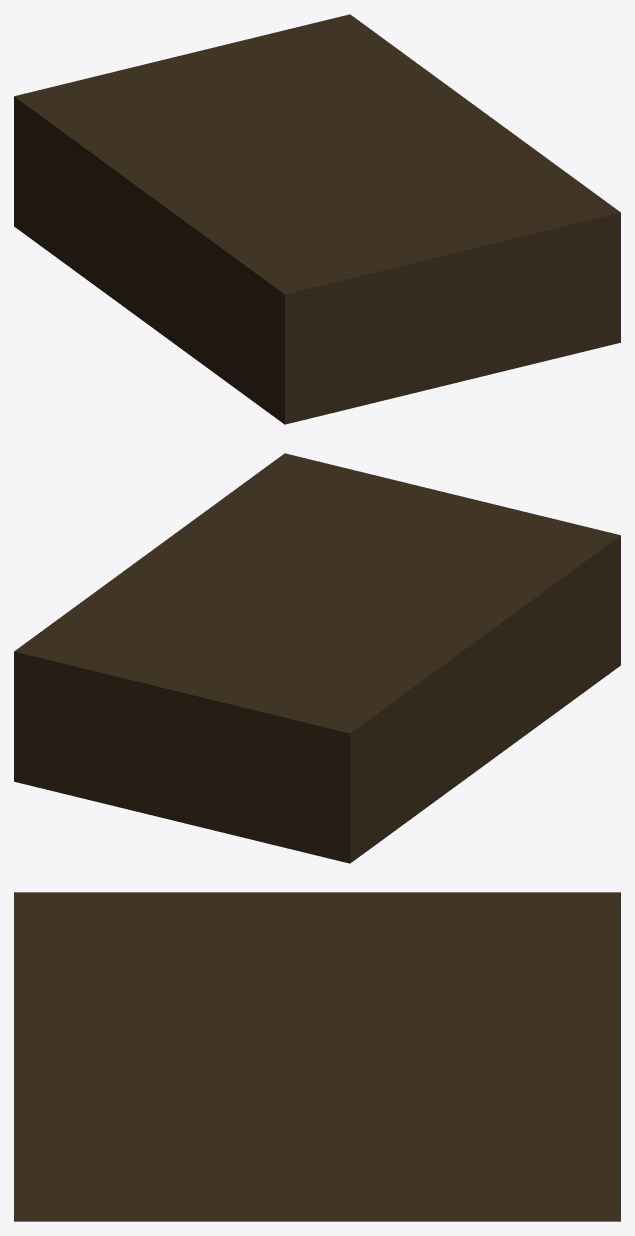
The model's file is Itr_Diningtable_Base_Left_02.FBX.
The picture shows the model from 3 angles, top to bottom: view 1: azimuth 30°, elevation 25°; view 2: azimuth 150°, elevation 25°; view 3: azimuth 270°, elevation 25°; orthographic projection. The views are drawn at different scales.
Visible parts, largest first — view 1: Itr_Diningtable_Base_Left_02; view 2: Itr_Diningtable_Base_Left_02; view 3: Itr_Diningtable_Base_Left_02.
Boxes of the visible parts, x1,y1,x2,y2 form: Itr_Diningtable_Base_Left_02: (14,14,620,424); Itr_Diningtable_Base_Left_02: (14,453,620,863); Itr_Diningtable_Base_Left_02: (14,892,620,1221).
Bounding box in the file's own units: 24.71 × 9.14 × 34.48.
